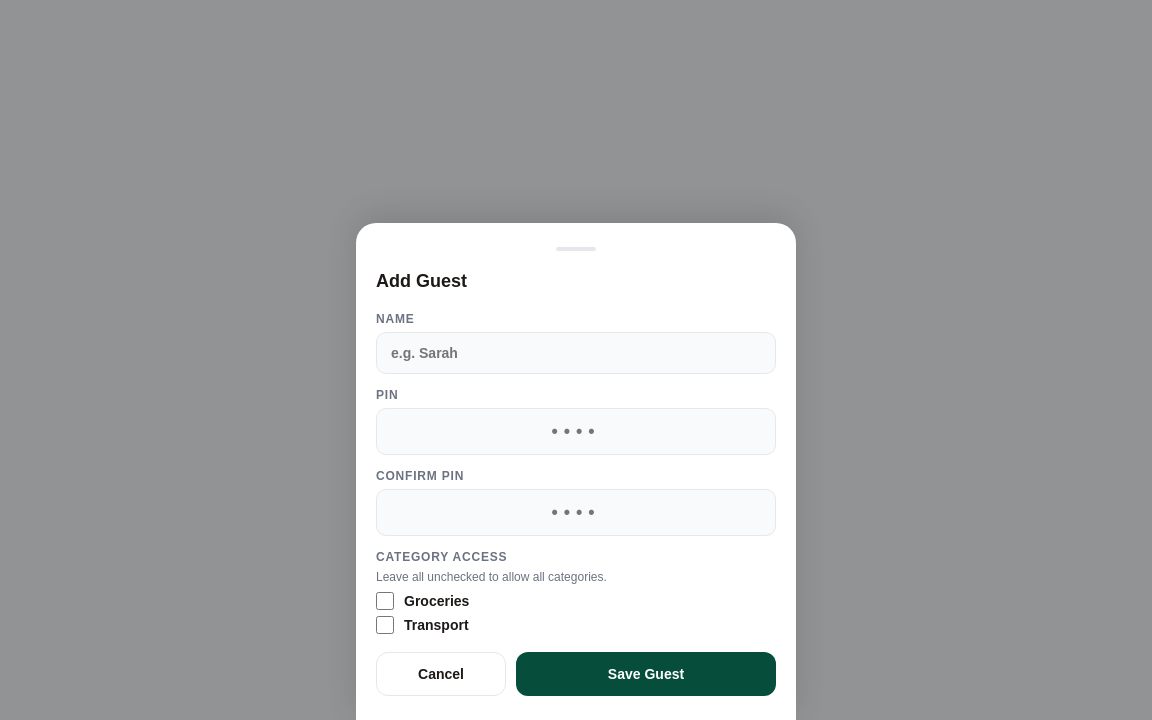
Scenario: AddGuestSheet › shows validation error when name is empty
Step 1. Click the button with test id "add-guest-save-btn" → x=646, y=674, box [516,652,776,696]
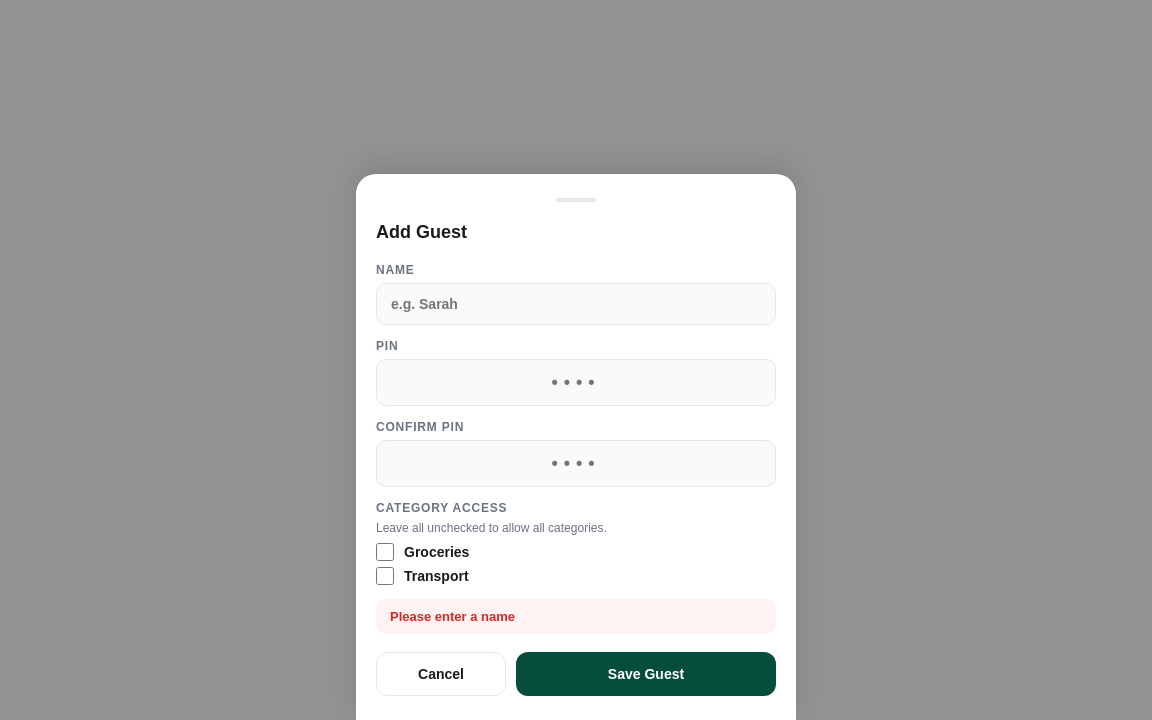
Now the text "Please enter a name" is shown, box [390,609,515,624]
